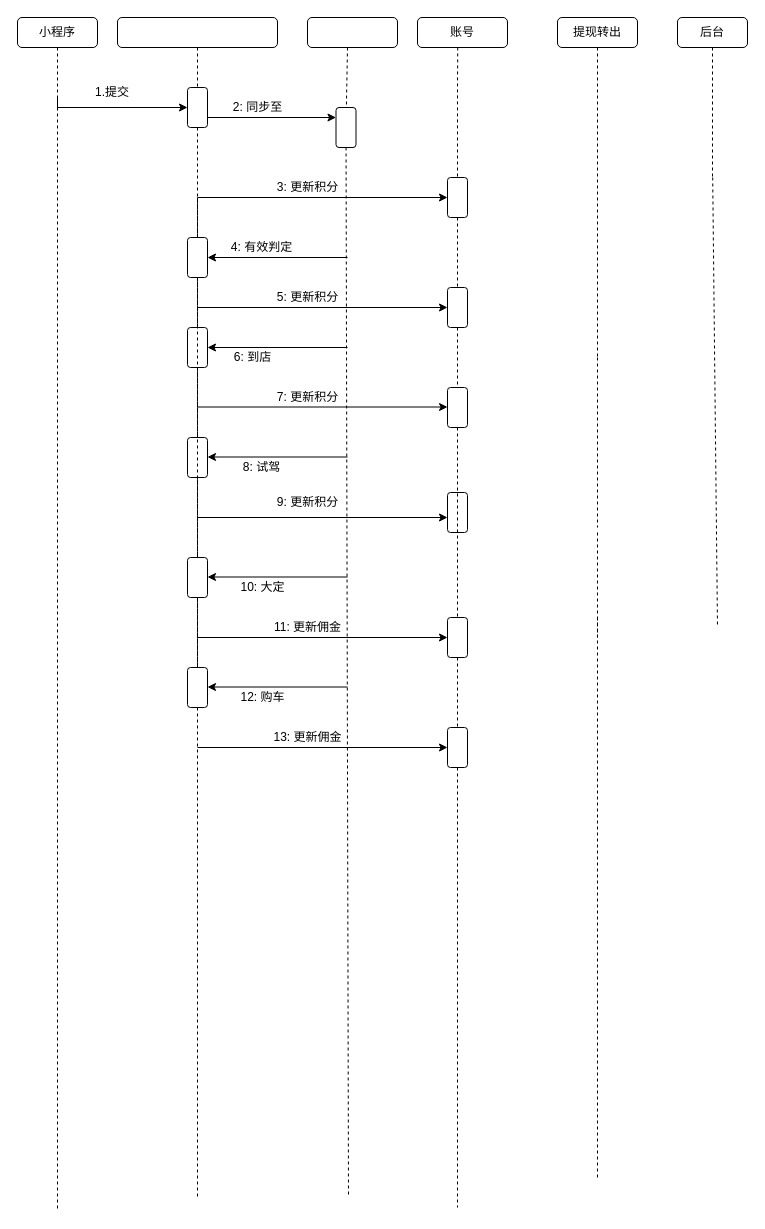
The diagram is 765 pixels wide and 1229 high, and some of its shapes have lost their labels. The shapes that lost their labels are listed below. From the top down, each one's centre as x and y in pixels, then its label:
At [197,32]: "潜客（提报、试驾、活动）".
At [352,32]: "DMS".
